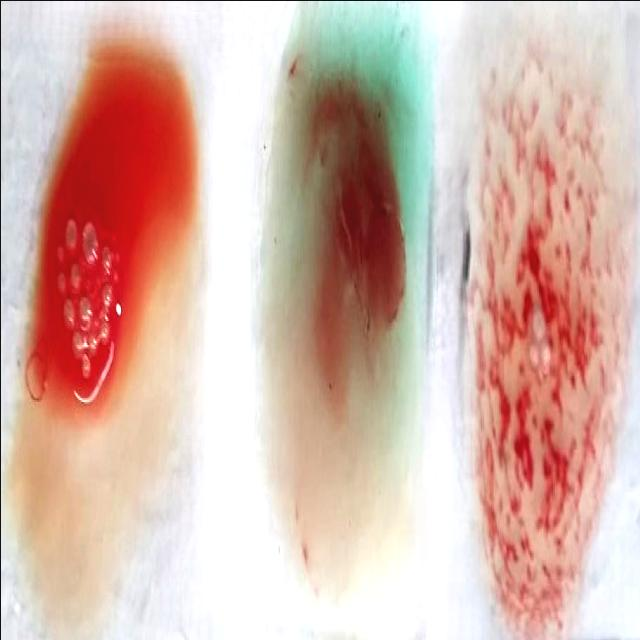D: (474, 26, 616, 624)
